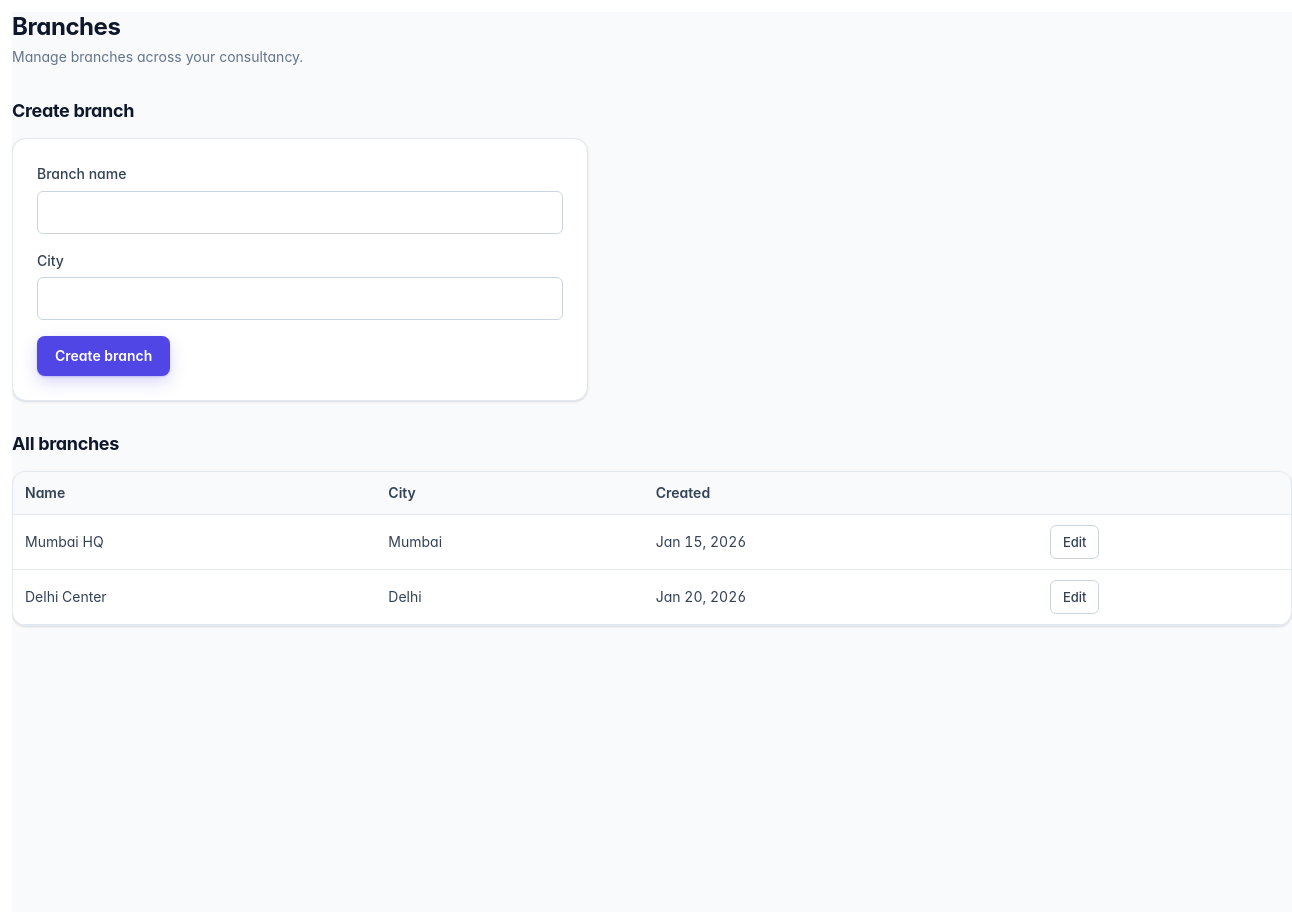
Test: BranchesPage › shows update error from API
What coordinates should you click on to do the following:
click the button with test id "branch-edit-1"
I would click on:
 (1075, 542)
Its box is x1=1050 y1=525 x2=1100 y2=559.
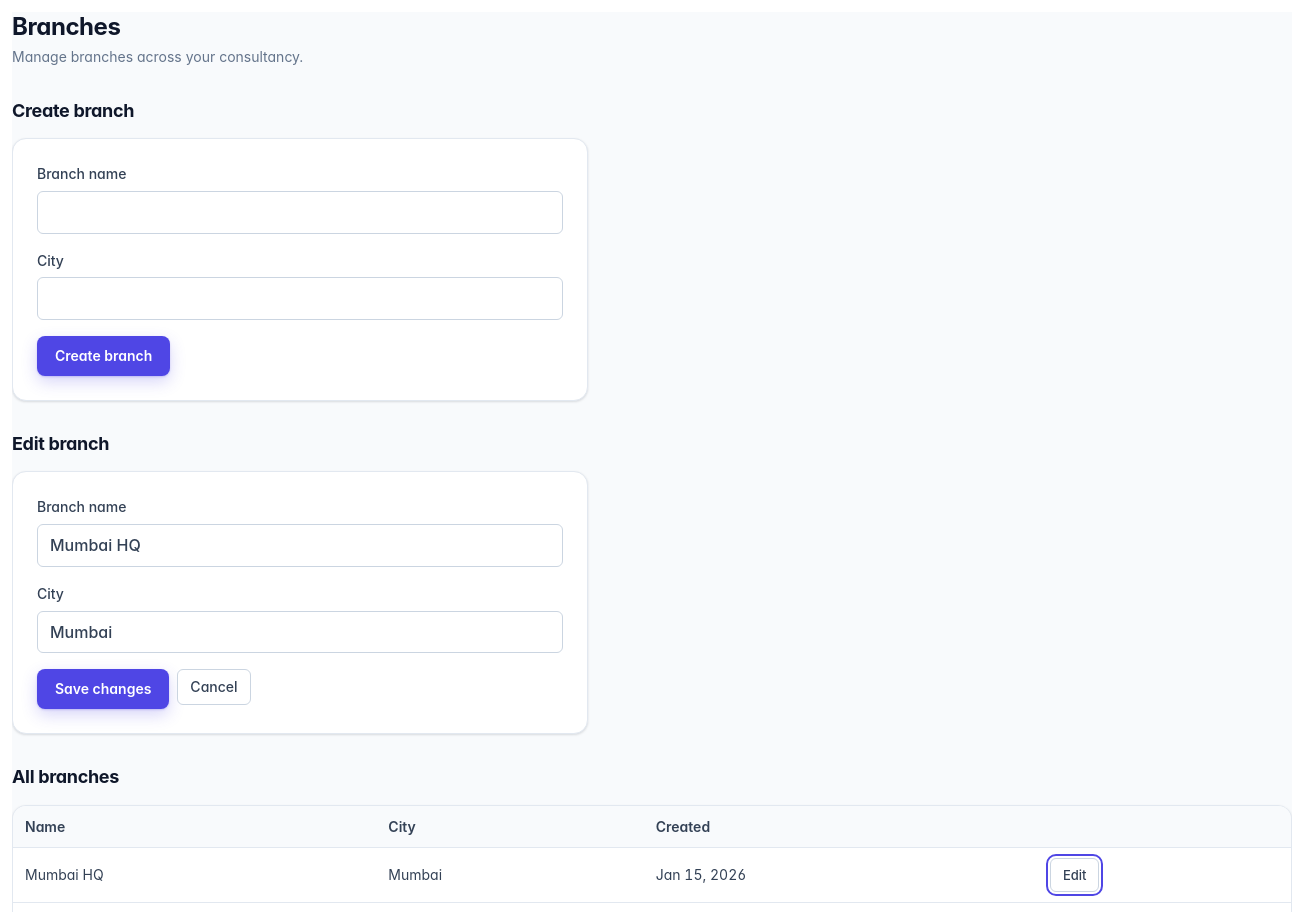
What coordinates should you click on to do the following:
click the button with test id "branch-edit-submit"
I would click on:
 (103, 689)
Its box is x1=37 y1=669 x2=169 y2=709.
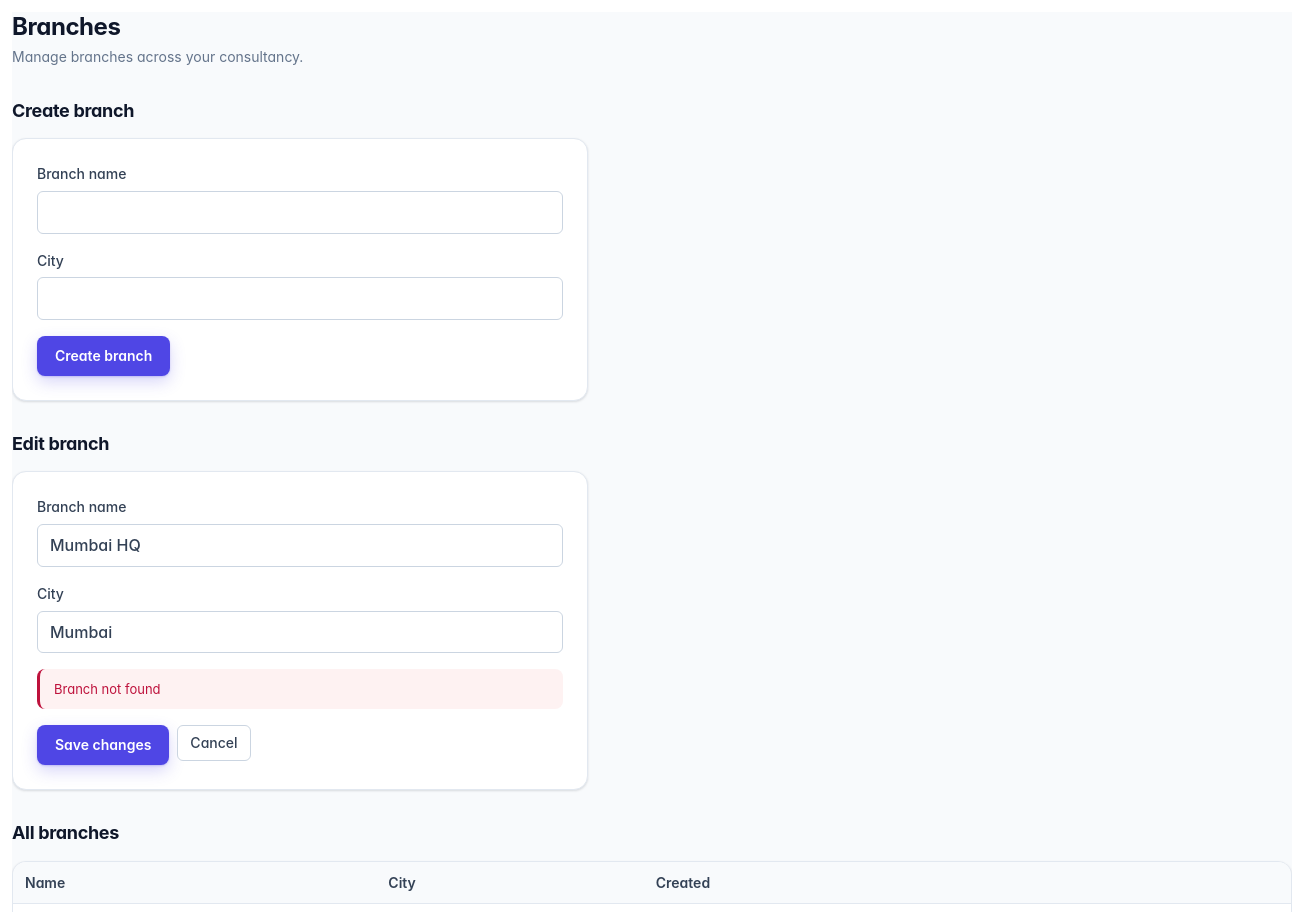
Expected: the message "Branch not found" is shown, x1=37 y1=669 x2=563 y2=709
Expected: the message with test id "branch-edit-error" reads "Branch not found", x1=54 y1=681 x2=160 y2=697
